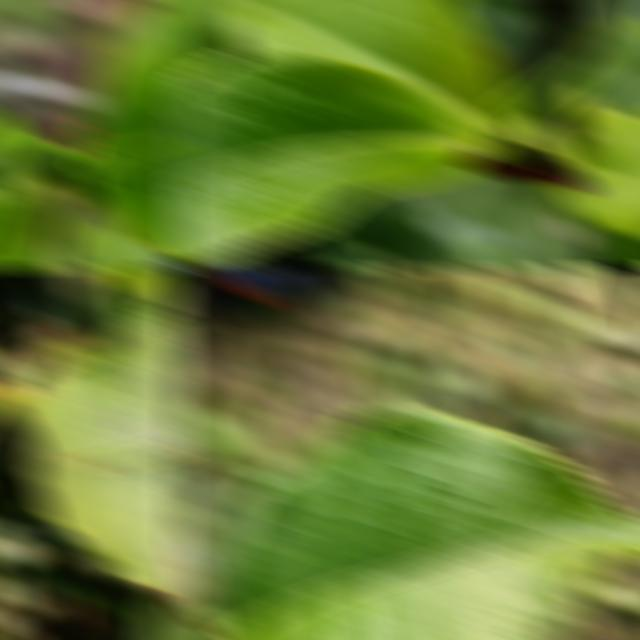Leaf: (209, 405, 640, 640), (170, 49, 498, 264), (11, 305, 188, 593), (230, 0, 517, 141), (71, 36, 188, 261), (490, 17, 640, 143), (369, 169, 553, 270), (0, 107, 71, 270), (560, 108, 640, 240), (503, 185, 604, 270), (449, 0, 524, 54), (170, 0, 217, 78), (582, 222, 640, 270), (134, 597, 188, 640)
